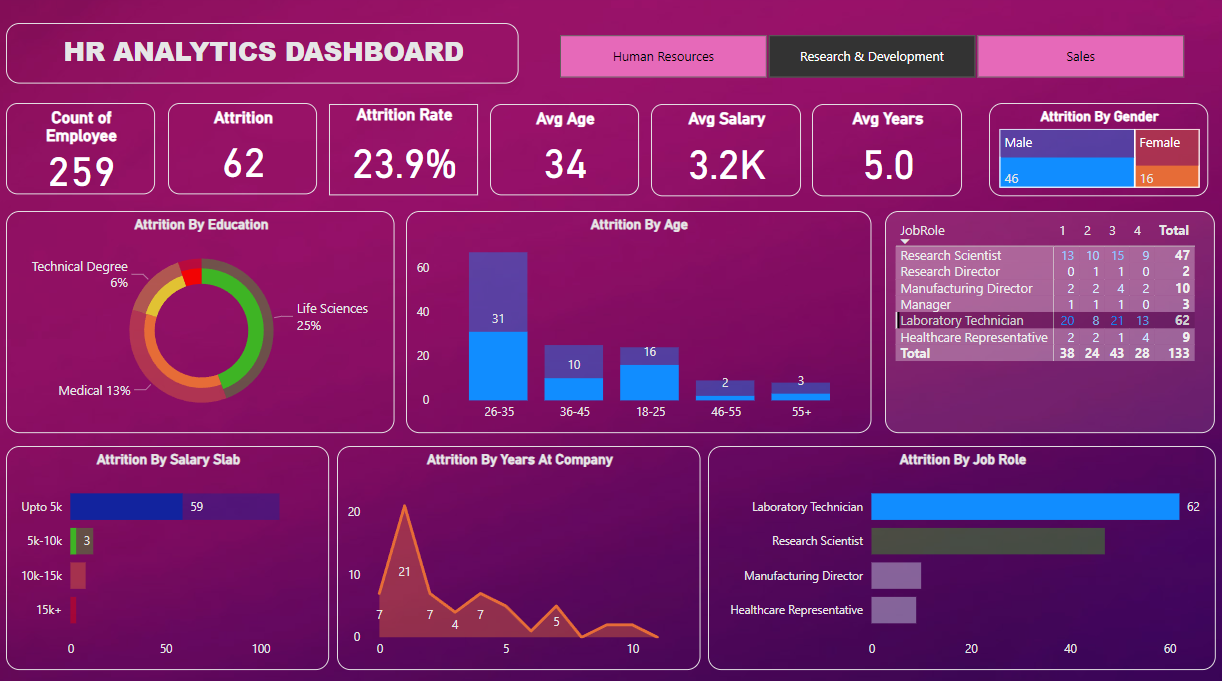

What the dashboard file says about the page in this screenshot:
{"tool":"powerbi","page":{"name":"Page 1","canvas":[1280,720],"ordinal":0},"visuals":[{"type":"card","title":"Count of Employee","fields":{"Values":["CountNonNull(HR_Analytics.EmpID)"]},"box":[11.4,112.3,154.9,94.6],"z":0},{"type":"card","title":"Attrition","fields":{"Values":["Sum(HR_Analytics.AttritionCount)"]},"box":[179.9,112.3,154.9,94.6],"z":1000},{"type":"card","title":"Attrition Rate","fields":{"Values":["HR_Analytics.AttritionRate"]},"box":[347.3,113.3,154.9,94.6],"z":2000},{"type":"card","title":"Avg Age","fields":{"Values":["Avg(HR_Analytics.Age)"]},"box":[514.7,113.3,154.9,94.6],"z":3000},{"type":"card","title":"Avg Salary","fields":{"Values":["Avg(HR_Analytics.MonthlyIncome)"]},"box":[682.1,113.3,156,95.7],"z":4000},{"type":"card","title":"Avg Years","fields":{"Values":["Avg(HR_Analytics.YearsAtCompany)"]},"box":[849.5,113.3,156,95.7],"z":5000},{"type":"donutChart","title":"Attrition By Education","fields":{"Category":["HR_Analytics.EducationField"],"Y":["Sum(HR_Analytics.AttritionCount)"]},"box":[11.4,224.6,404.5,230.8],"z":6000},{"type":"columnChart","title":"Attrition By Age","fields":{"Category":["HR_Analytics.AgeGroup"],"Y":["Sum(HR_Analytics.AttritionCount)"]},"box":[427.4,224.6,483.5,230.8],"z":7000},{"type":"pivotTable","fields":{"Rows":["HR_Analytics.JobRole"],"Columns":["HR_Analytics.JobSatisfaction"],"Values":["Sum(HR_Analytics.AttritionCount)"]},"box":[925.4,224.6,343.1,230.8],"z":8000},{"type":"clusteredBarChart","title":"Attrition By Salary Slab","fields":{"Category":["HR_Analytics.SalarySlab"],"Y":["Sum(HR_Analytics.AttritionCount)"]},"box":[11.4,469,335.9,232.9],"z":9000},{"type":"clusteredBarChart","title":"Attrition By Job Role","fields":{"Category":["HR_Analytics.JobRole"],"Y":["Sum(HR_Analytics.AttritionCount)"]},"box":[741.4,469,528.2,232.9],"z":10000},{"type":"stackedAreaChart","title":"Attrition By Years At Company","fields":{"Category":["HR_Analytics.YearsAtCompany"],"Y":["Sum(HR_Analytics.AttritionCount)"]},"box":[355.6,469,378.5,232.9],"z":11000},{"type":"treemap","title":"Attrition By Gender","fields":{"Group":["HR_Analytics.Gender"],"Values":["Sum(HR_Analytics.AttritionCount)"]},"box":[1033.6,112.3,227.7,96.7],"z":12000},{"type":"slicer","fields":{"Values":["HR_Analytics.Department"]},"box":[561.5,20.8,698.7,71.7],"z":13000},{"type":"textbox","box":[11.4,29.1,533.4,63.4],"z":13001}]}

Visuals, with their boxes in screenshot pixels (x1, y1, x2, y2), scaled from the page's 1280x720 canvas onto the 1222x681 screenshot:
"Count of Employee" card: box=[11, 106, 159, 196]
"Attrition" card: box=[172, 106, 320, 196]
"Attrition Rate" card: box=[332, 107, 479, 197]
"Avg Age" card: box=[491, 107, 639, 197]
"Avg Salary" card: box=[651, 107, 800, 198]
"Avg Years" card: box=[811, 107, 960, 198]
"Attrition By Education" donutChart: box=[11, 212, 397, 431]
"Attrition By Age" columnChart: box=[408, 212, 870, 431]
pivotTable - HR_Analytics.JobRole x HR_Analytics.JobSatisfaction: box=[883, 212, 1211, 431]
"Attrition By Salary Slab" clusteredBarChart: box=[11, 444, 332, 664]
"Attrition By Job Role" clusteredBarChart: box=[708, 444, 1212, 664]
"Attrition By Years At Company" stackedAreaChart: box=[339, 444, 701, 664]
"Attrition By Gender" treemap: box=[987, 106, 1204, 198]
slicer - HR_Analytics.Department: box=[536, 20, 1203, 87]
textbox: box=[11, 28, 520, 87]
